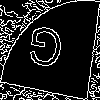G: (24, 24, 66, 78)
